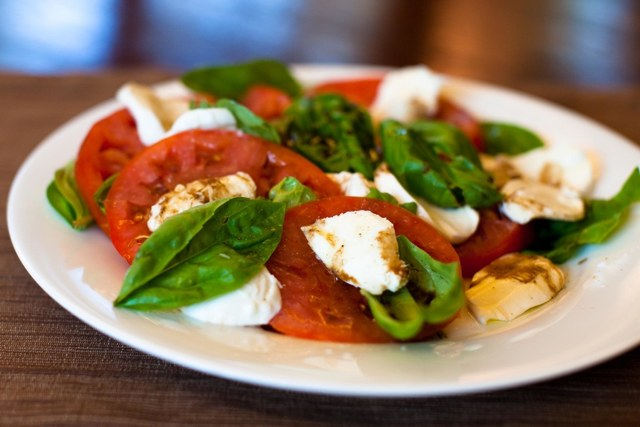tomato: (75, 79, 525, 341)
